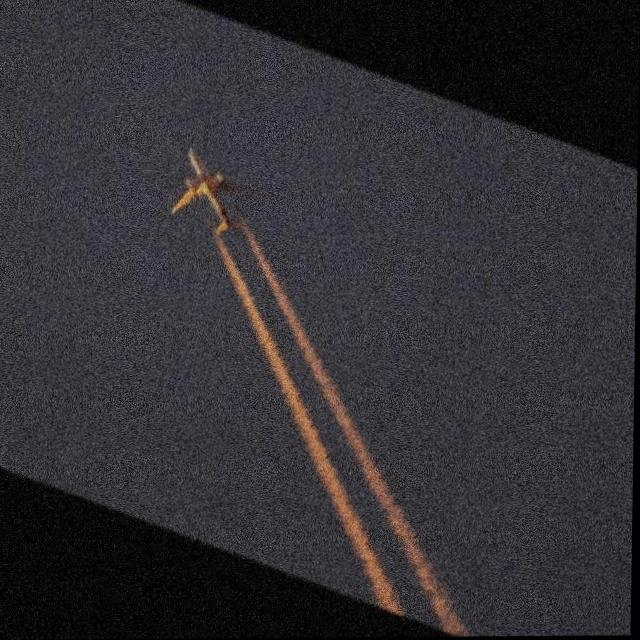airplane: (168, 145, 261, 239)
